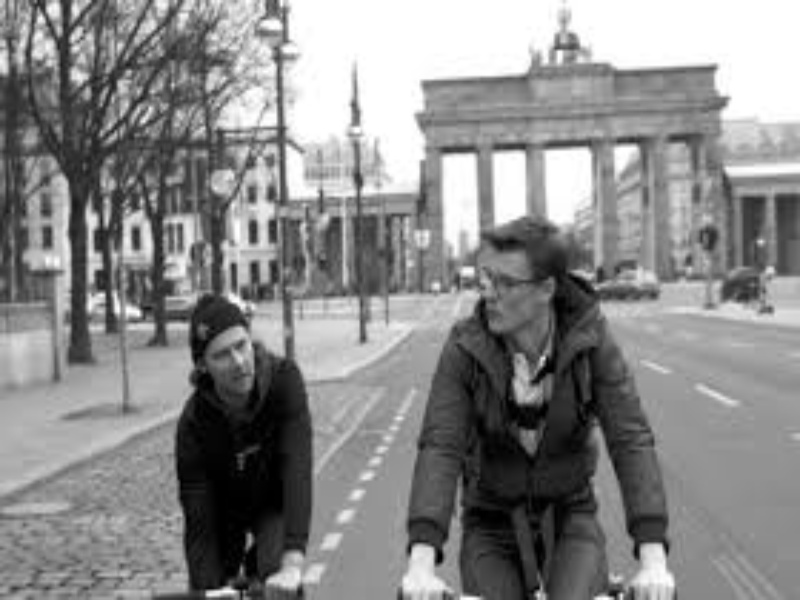TsisyArotava: (463, 217, 563, 341), (178, 298, 276, 404)
